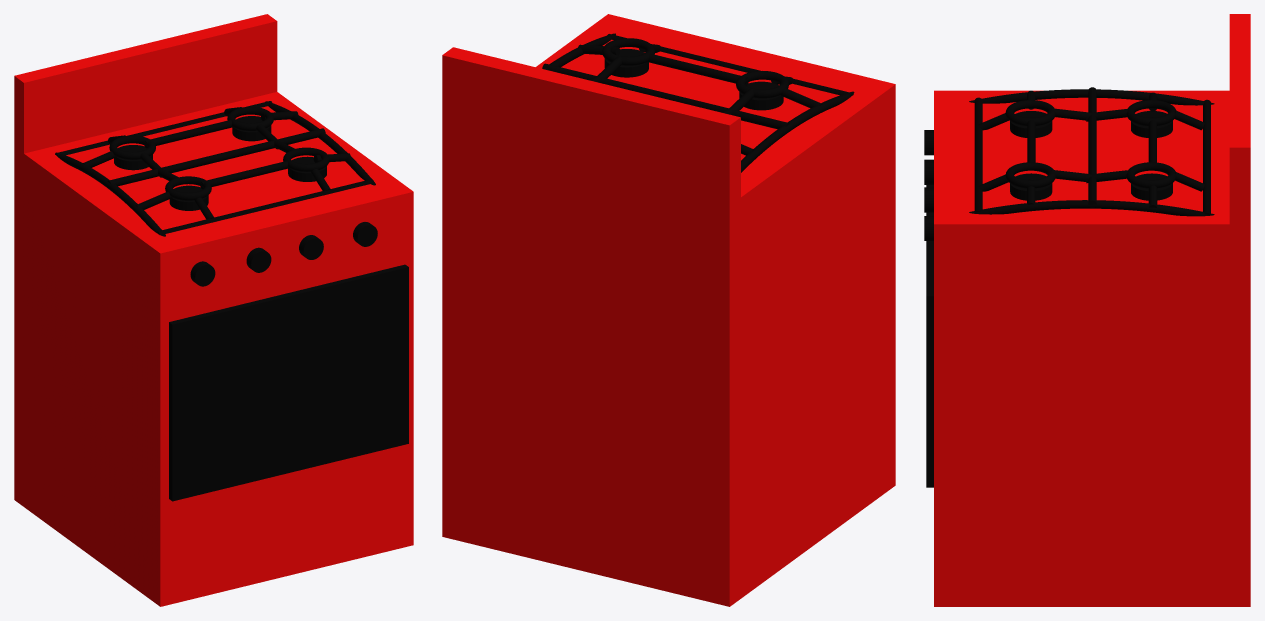
Rendered from Плита.fbx.
3 renders of one model, left to right at view 1: azimuth 30°, elevation 25°; view 2: azimuth 150°, elevation 25°; view 3: azimuth 270°, elevation 25°, orthographic. The views are drawn at different scales.
Visible parts, largest first — view 1: Объект_Куб, Объект_Куб_2, Объект_Куб_1, Объект_Цилиндр_8, Объект_Цилиндр_9, Объект_Цилиндр_7, Объект_Цилиндр_6, Объект_Цилиндр_10, Объект_Тор, Объект_Тор_1, Объект_Тор_2, Объект_Цилиндр_5 (+2 smaller); view 2: Объект_Куб, Объект_Куб_1, Объект_Цилиндр_8, Объект_Цилиндр_7, Объект_Цилиндр_9, Объект_Цилиндр_5, Объект_Тор, Объект_Тор_1, Объект_Цилиндр_3, Объект_Цилиндр; view 3: Объект_Куб, Объект_Куб_1, Объект_Куб_2, Объект_Цилиндр_6, Объект_Цилиндр_7, Объект_Цилиндр_8, Объект_Цилиндр_9, Объект_Цилиндр_10, Объект_Тор_1, Объект_Тор_3, Объект_Тор, Объект_Тор_2 (+4 smaller).
Part boxes in pixels (<box>): Объект_Куб: <box>14,92,413,606</box>; Объект_Куб_2: <box>169,264,408,501</box>; Объект_Куб_1: <box>14,14,277,153</box>; Объект_Цилиндр_8: <box>107,128,325,186</box>; Объект_Цилиндр_9: <box>156,179,373,235</box>; Объект_Цилиндр_7: <box>55,152,165,236</box>; Объект_Цилиндр_6: <box>265,101,375,185</box>; Объект_Цилиндр_10: <box>55,101,272,156</box>; Объект_Тор: <box>165,176,211,200</box>; Объект_Тор_1: <box>283,147,329,171</box>; Объект_Тор_2: <box>109,135,155,159</box>; Объект_Цилиндр_5: <box>200,161,288,189</box>; Объект_Куб: <box>442,14,895,606</box>; Объект_Куб_1: <box>442,47,740,205</box>; Объект_Цилиндр_8: <box>542,63,789,129</box>; Объект_Цилиндр_7: <box>741,91,854,172</box>; Объект_Цилиндр_9: <box>607,34,853,96</box>; Объект_Цилиндр_5: <box>648,53,748,85</box>; Объект_Тор: <box>736,71,788,98</box>; Объект_Тор_1: <box>602,38,654,65</box>; Объект_Цилиндр_3: <box>739,81,783,110</box>; Объект_Цилиндр: <box>604,49,648,77</box>; Объект_Куб: <box>934,90,1250,606</box>; Объект_Куб_1: <box>1229,14,1250,224</box>; Объект_Куб_2: <box>926,185,933,487</box>; Объект_Цилиндр_6: <box>969,200,1214,216</box>; Объект_Цилиндр_7: <box>969,89,1214,105</box>; Объект_Цилиндр_8: <box>1088,87,1096,208</box>; Объект_Цилиндр_9: <box>974,97,982,212</box>; Объект_Цилиндр_10: <box>1203,99,1210,215</box>; Объект_Тор_1: <box>1005,162,1055,188</box>; Объект_Тор_3: <box>1126,162,1176,188</box>; Объект_Тор: <box>1005,100,1055,125</box>; Объект_Тор_2: <box>1126,100,1176,125</box>.
Size of the model in its own units: 150 by 240 by 155.
